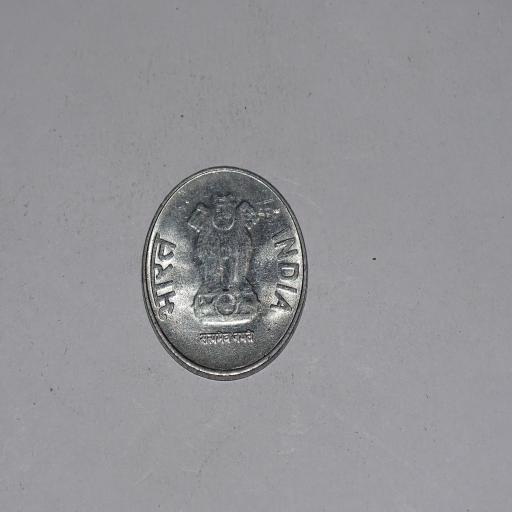rupee1: (134, 164, 312, 389)
